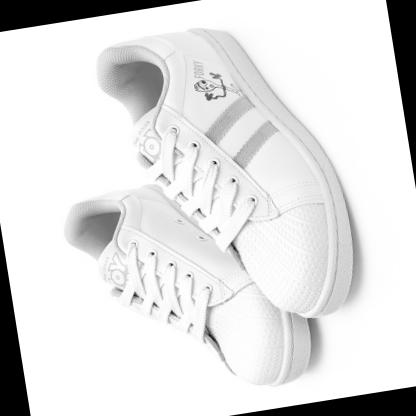left_foot: (117, 10, 368, 327)
right_foot: (65, 146, 291, 408)
